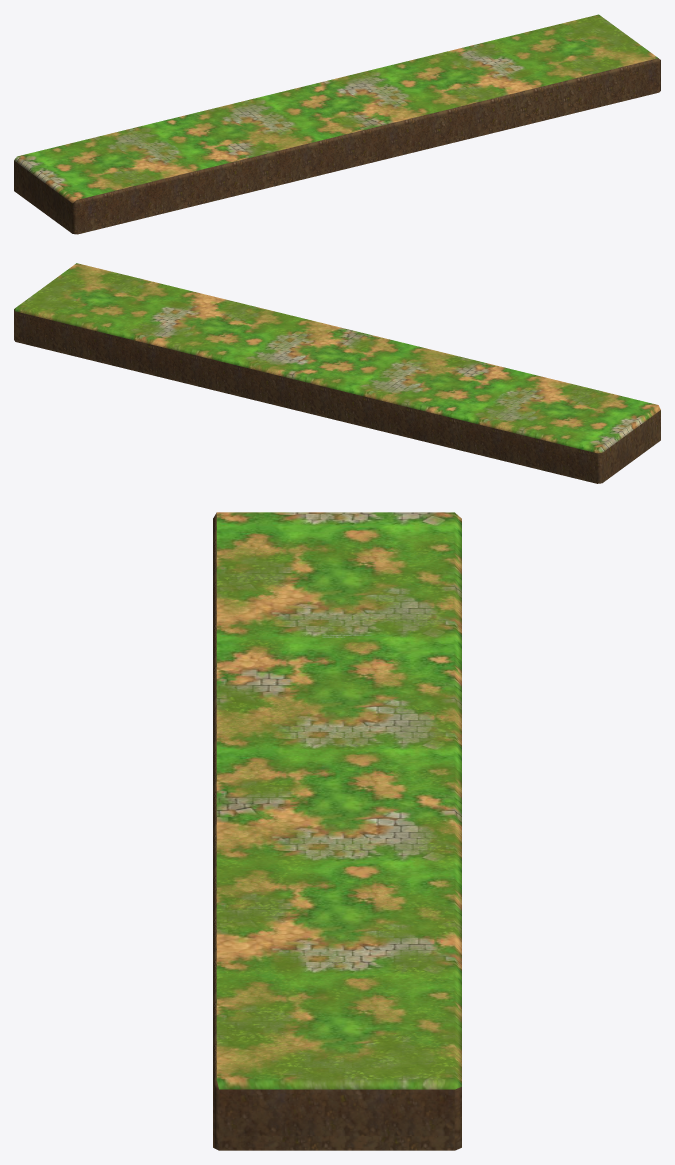
File: tutorial_ground 1.fbx
3 renders of one model, top to bottom at view 1: azimuth 30°, elevation 25°; view 2: azimuth 150°, elevation 25°; view 3: azimuth 270°, elevation 25°, orthographic. The views are drawn at different scales.
Visible parts, largest first — view 1: laaa; view 2: laaa; view 3: laaa.
Part boxes in pixels (x1,y1,x2,y2): laaa: (14,14,660,234); laaa: (14,263,660,483); laaa: (213,512,461,1150).
Size of the model in its own units: 7402 by 408 by 1358.
1 material, 1 textured.
